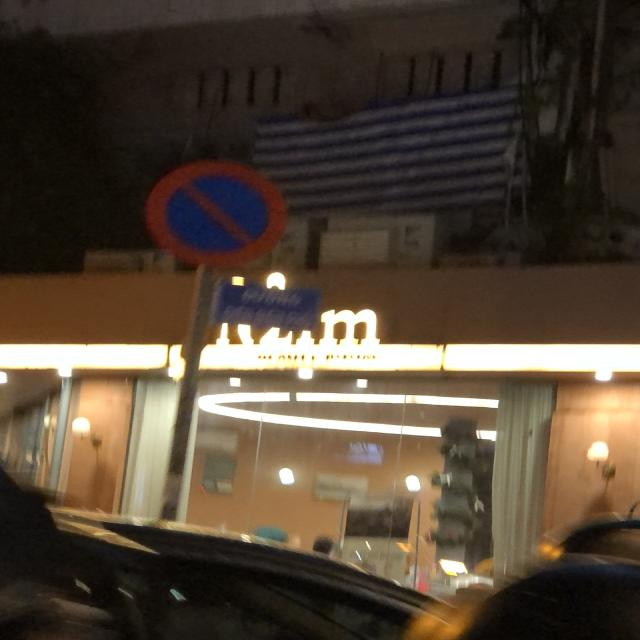Bien bao cam do xe: (137, 154, 314, 286)
